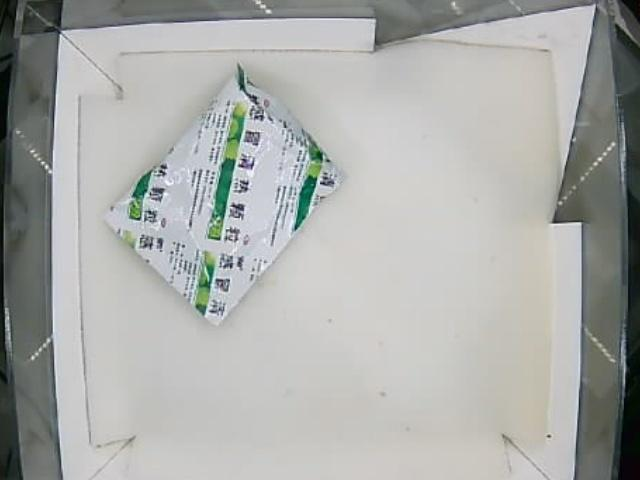Medicine: (100, 67, 341, 326)
